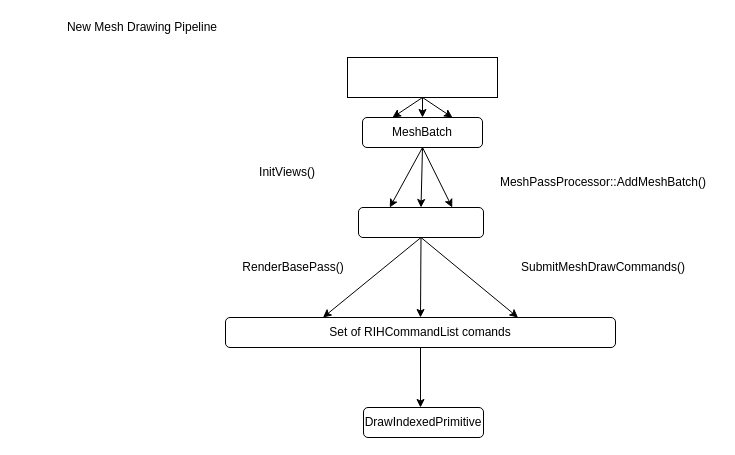
Some shapes in this 735 by 455 pixel diagram are drawn without their labels. Each missing label, with the centre of its shape:
MeshDrawCommand: (421,222)
PrimitiveSceneProxy: (422,77)
